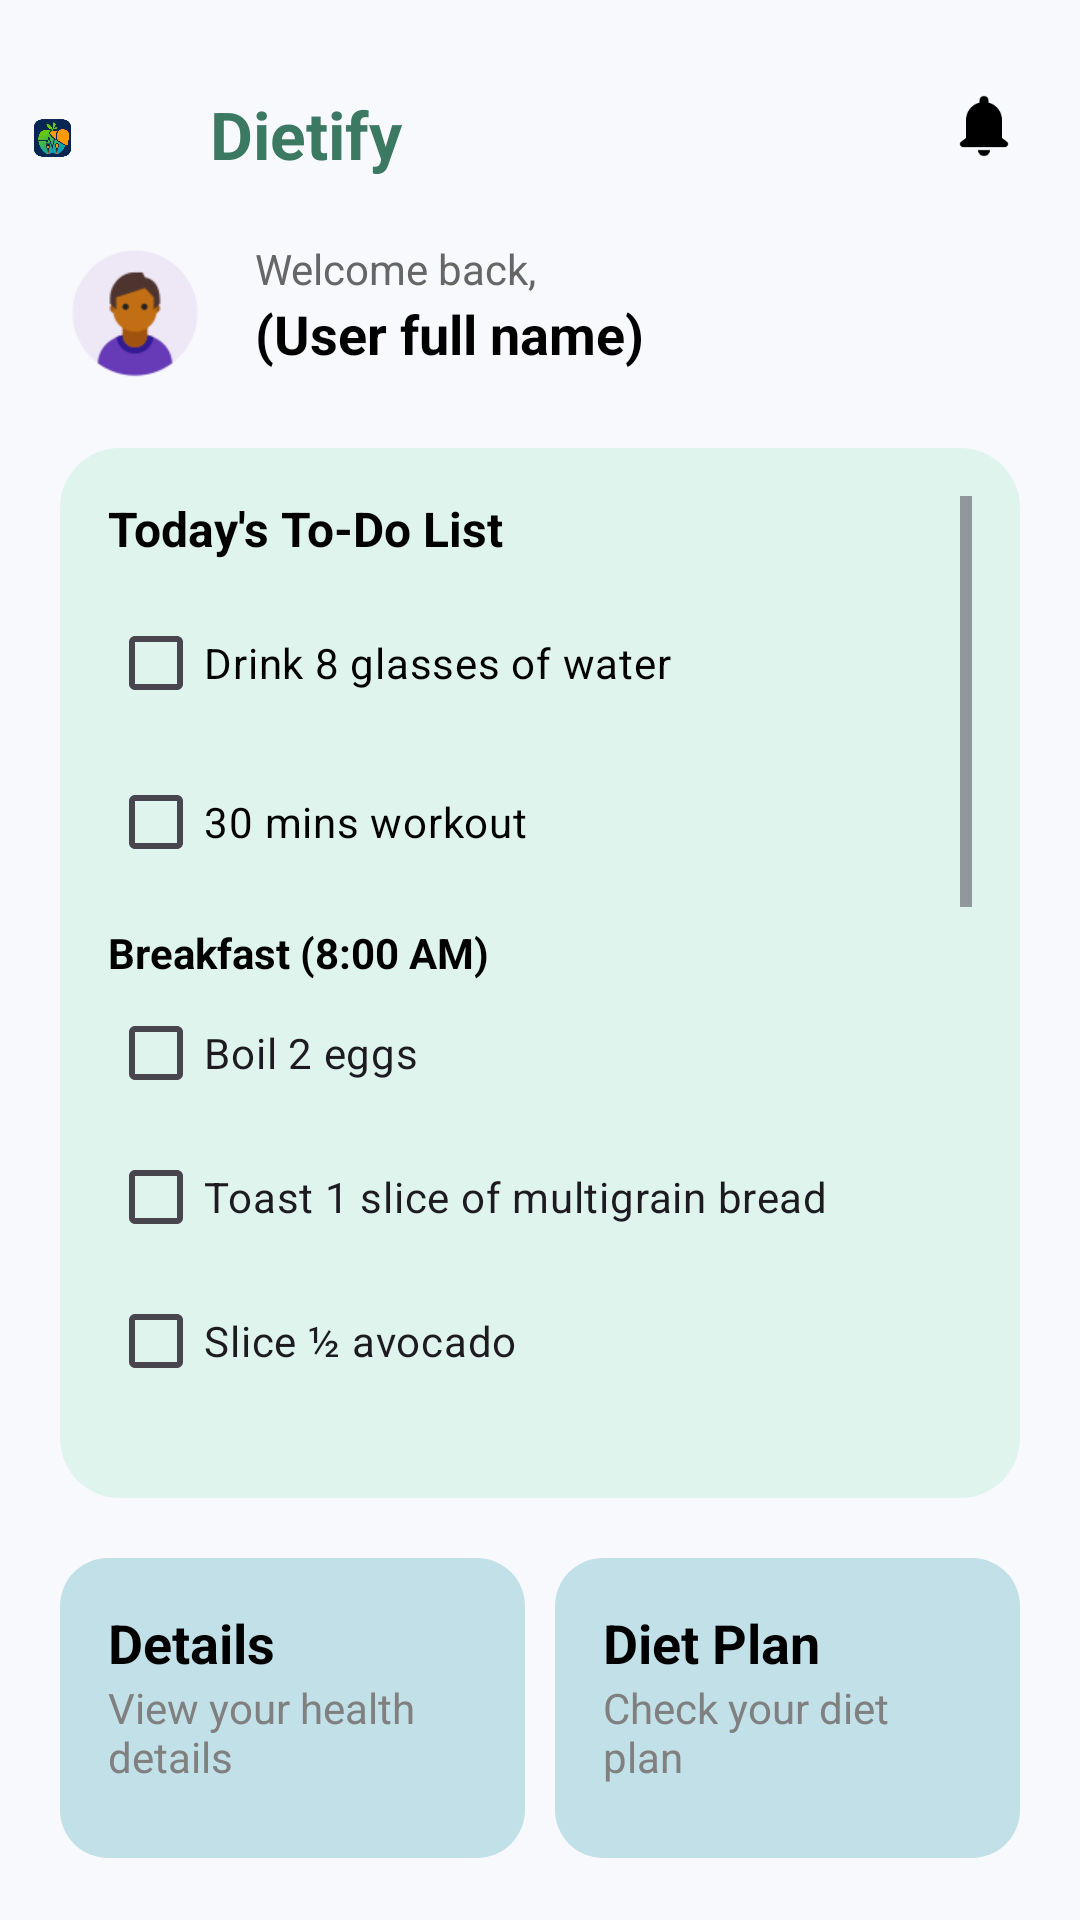

Point at icon controls on the screen. Image size 1080 × 1920, points as point (x, y).
notification: point (984, 126)
